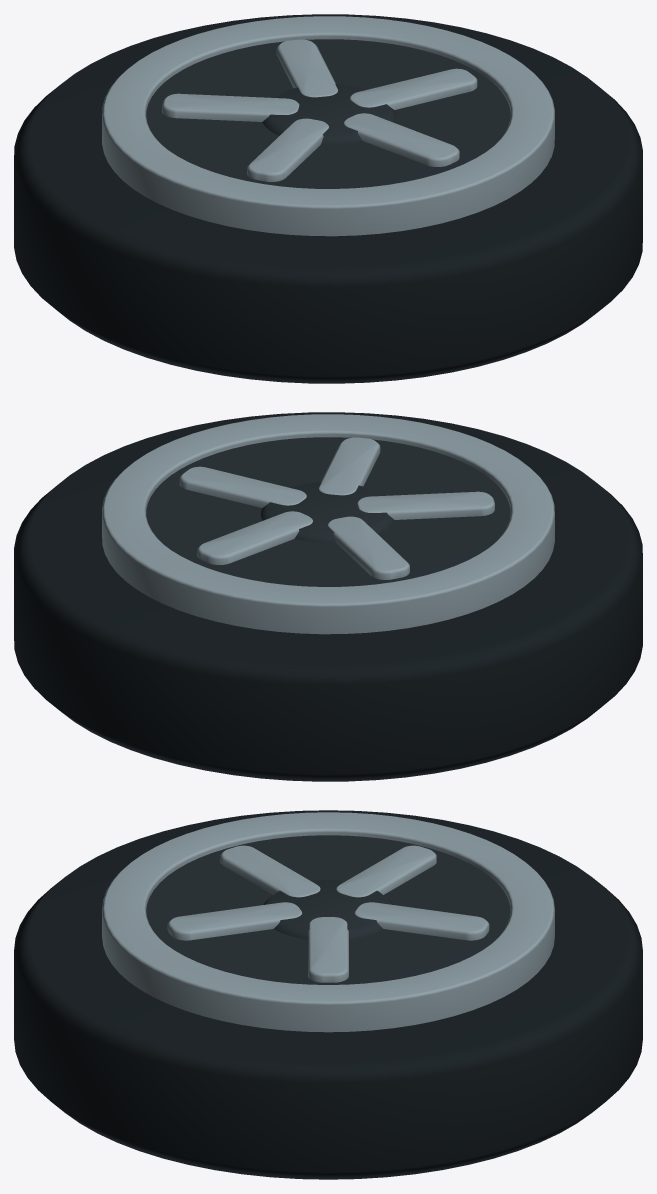
The model's file is wheel.dae.
The picture shows the model from 3 angles, top to bottom: view 1: azimuth 30°, elevation 25°; view 2: azimuth 150°, elevation 25°; view 3: azimuth 270°, elevation 25°; orthographic projection.
Parts seen in each view (by area): view 1: mesh0-node, mesh9-node, mesh10-node, mesh16-node, mesh13-node, mesh15-node, mesh11-node, mesh14-node, mesh12-node; view 2: mesh0-node, mesh9-node, mesh10-node, mesh16-node, mesh14-node, mesh12-node, mesh11-node, mesh13-node, mesh15-node; view 3: mesh0-node, mesh9-node, mesh10-node, mesh16-node, mesh12-node, mesh15-node, mesh13-node, mesh14-node, mesh11-node.
Boxes of the visible parts, x1,y1,x2,y2 form: mesh0-node: (14,14,642,383); mesh9-node: (102,16,554,236); mesh10-node: (146,39,510,188); mesh16-node: (262,84,395,144); mesh13-node: (162,93,299,121); mesh15-node: (344,113,459,166); mesh11-node: (350,68,477,109); mesh14-node: (247,118,328,181); mesh12-node: (276,39,337,97); mesh0-node: (14,412,642,781); mesh9-node: (102,414,554,634); mesh10-node: (146,437,510,586); mesh16-node: (261,482,394,542); mesh14-node: (357,491,494,519); mesh12-node: (197,511,312,564); mesh11-node: (179,466,306,507); mesh13-node: (328,516,409,579); mesh15-node: (319,437,380,495); mesh0-node: (14,810,642,1179); mesh9-node: (102,812,554,1032); mesh10-node: (146,835,510,984); mesh16-node: (263,880,393,939); mesh12-node: (355,902,489,940); mesh15-node: (167,902,301,940); mesh13-node: (336,845,436,897); mesh14-node: (220,845,320,897); mesh11-node: (308,917,348,982).
Size of the model in its own units: 0.2 by 0.2 by 0.064.
